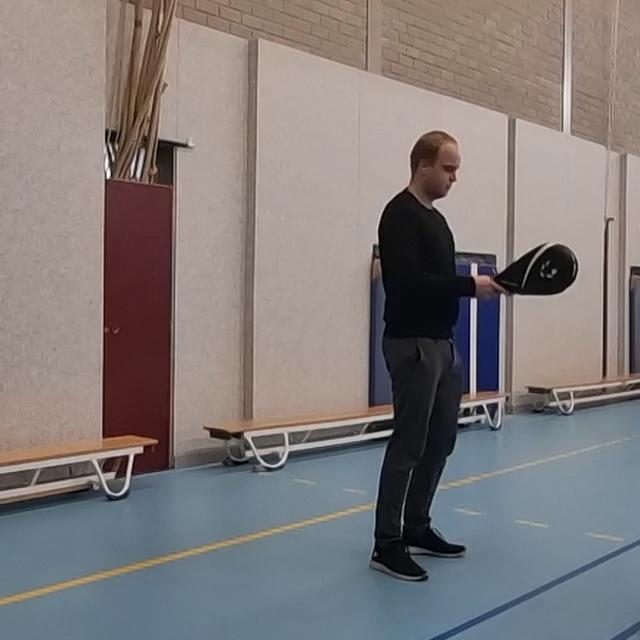paddle: (606, 233, 640, 291)
